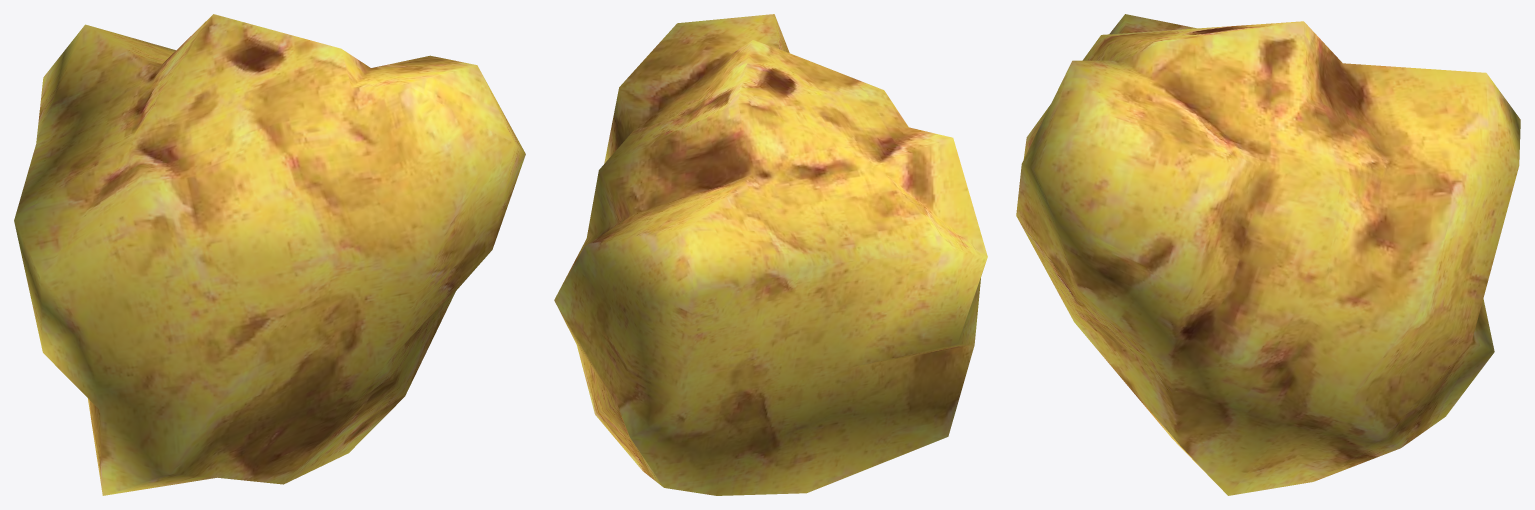
Rendered from resourcenode-base.glb.
3 views of the same model, side by side, from view 1: azimuth 30°, elevation 25°; view 2: azimuth 150°, elevation 25°; view 3: azimuth 270°, elevation 25° (orthographic). The views are drawn at different scales.
Bounding box in the file's own units: 0.5356 × 0.5096 × 0.5335.
1 material, 1 textured.
